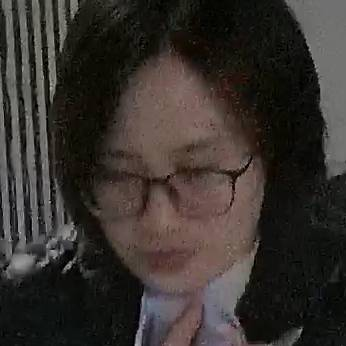liangsu: (56, 37, 270, 296)
